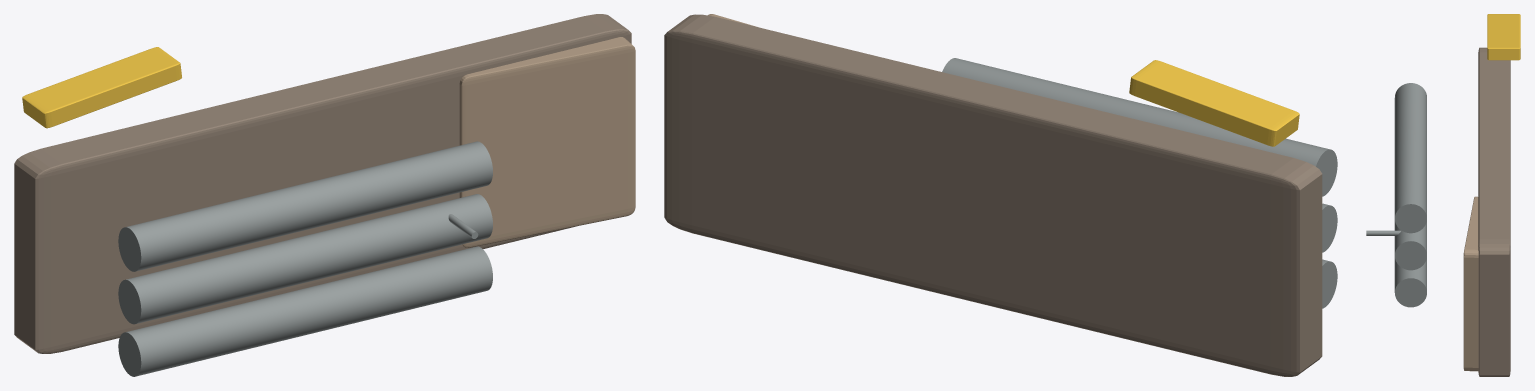
The model's file is d-x02-dominion-cruise-lod2.glb.
3 renders of one model, left to right at view 1: azimuth 30°, elevation 25°; view 2: azimuth 150°, elevation 25°; view 3: azimuth 270°, elevation 25°, orthographic. The views are drawn at different scales.
Parts seen in each view (by area): view 1: strategic_lower, strategic_nose, cruise_canister_0, cruise_canister_4, cruise_canister_2, strategic_jack_1; view 2: strategic_lower, strategic_jack_1, cruise_canister_4, cruise_canister_0, cruise_canister_2; view 3: strategic_lower, cruise_canister_4, strategic_nose, strategic_jack_1, cruise_canister_0, cruise_canister_2, cruise_radar_mast.
Boxes of the visible parts, left/top/right/bottom form: strategic_lower: left=14, top=14, right=631, bottom=353; strategic_nose: left=459, top=37, right=635, bottom=247; cruise_canister_0: left=118, top=246, right=492, bottom=376; cruise_canister_4: left=118, top=141, right=492, bottom=271; cruise_canister_2: left=118, top=194, right=492, bottom=324; strategic_jack_1: left=22, top=47, right=181, bottom=128; strategic_lower: left=664, top=14, right=1322, bottom=376; strategic_jack_1: left=1129, top=60, right=1299, bottom=146; cruise_canister_4: left=942, top=58, right=1337, bottom=196; cruise_canister_0: left=1322, top=259, right=1337, bottom=308; cruise_canister_2: left=1322, top=203, right=1337, bottom=252; strategic_lower: left=1478, top=47, right=1510, bottom=376; cruise_canister_4: left=1394, top=83, right=1426, bottom=233; strategic_nose: left=1463, top=196, right=1478, bottom=371; strategic_jack_1: left=1487, top=14, right=1520, bottom=60; cruise_canister_0: left=1394, top=256, right=1426, bottom=307; cruise_canister_2: left=1394, top=219, right=1426, bottom=270; cruise_radar_mast: left=1366, top=230, right=1400, bottom=235.
Size of what is drawn, in the model's own units: 10.73 by 4.37 by 3.41.
